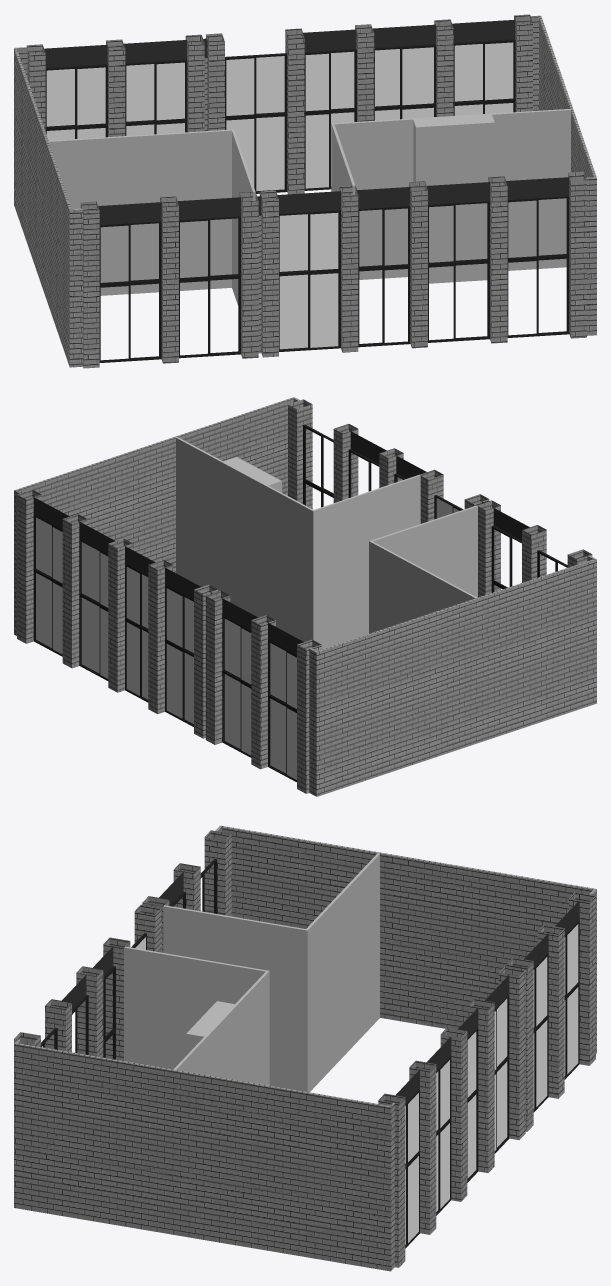
The model's file is MSH_Torre_Muros_3.FBX.
3 views of the same model, one above another, from view 1: azimuth 30°, elevation 25°; view 2: azimuth 150°, elevation 25°; view 3: azimuth 270°, elevation 25° (orthographic). The views are drawn at different scales.
Visible parts, largest first — view 1: MSH_Torre_Muros_3; view 2: MSH_Torre_Muros_3; view 3: MSH_Torre_Muros_3.
Boxes of the visible parts, x1,y1,x2,y2 form: MSH_Torre_Muros_3: (14, 14, 596, 368); MSH_Torre_Muros_3: (14, 397, 596, 796); MSH_Torre_Muros_3: (14, 825, 596, 1271).
Bounding box in the file's own units: 2394 × 650 × 2093.
